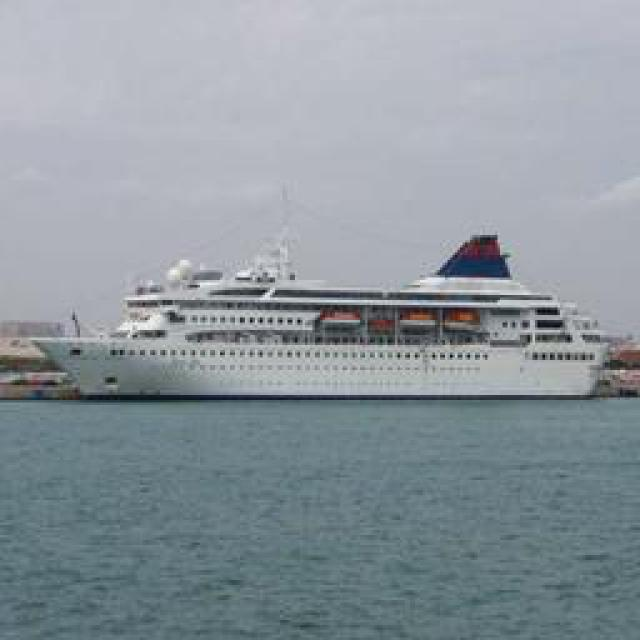Ship: (42, 228, 612, 403)
